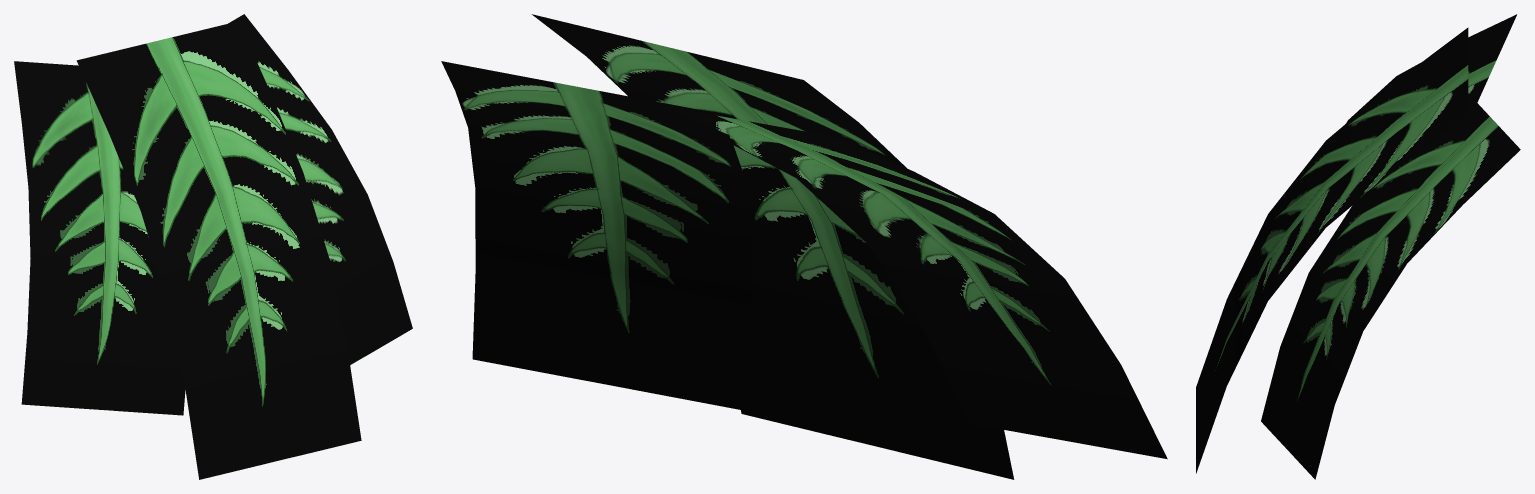
The model's file is grass2.fbx.
The picture shows the model from 3 angles, left to right: view 1: azimuth 30°, elevation 25°; view 2: azimuth 150°, elevation 25°; view 3: azimuth 270°, elevation 25°; orthographic projection. The views are drawn at different scales.
Visible parts, largest first — view 1: leaf.012; view 2: leaf.012; view 3: leaf.012.
Boxes of the visible parts, x1,y1,x2,y2 form: leaf.012: [14, 14, 412, 479]; leaf.012: [441, 14, 1167, 479]; leaf.012: [1196, 14, 1520, 479].
Bounding box in the file's own units: 238 × 186 × 152.
